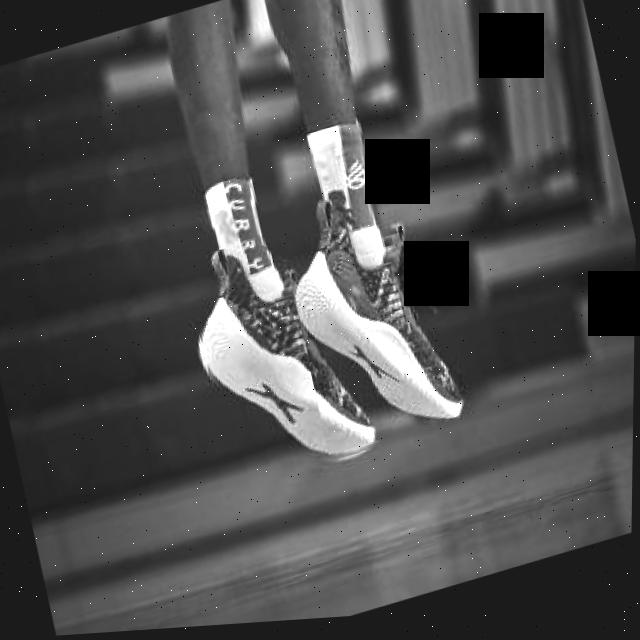shoe: (178, 219, 386, 501), (273, 174, 474, 462)
